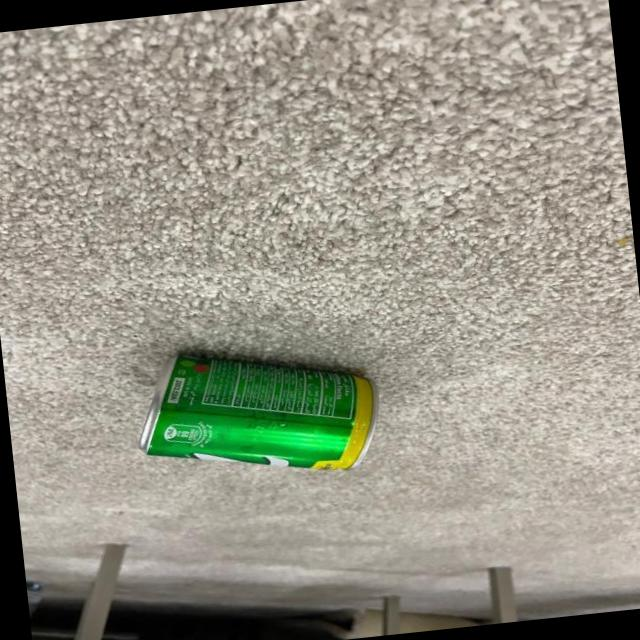Kaleng: (130, 332, 386, 494)
